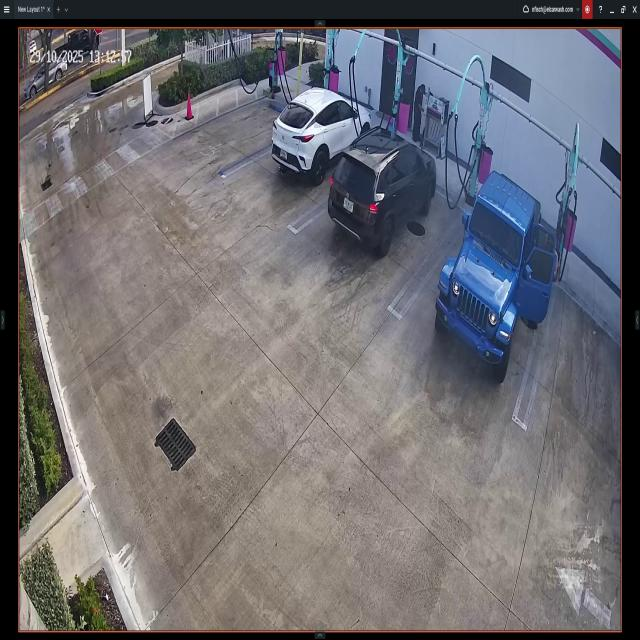Car: (437, 170, 553, 378), (333, 133, 435, 253), (272, 88, 370, 180)
